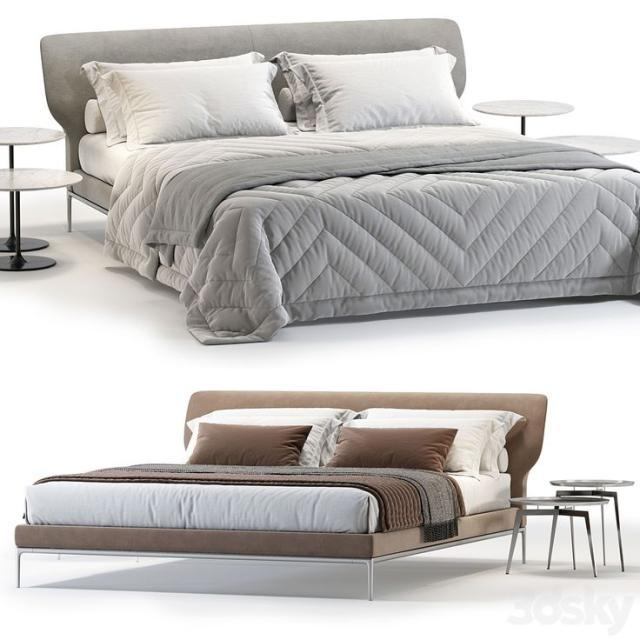obstacle: (38, 18, 639, 344), (14, 389, 548, 601), (504, 494, 606, 578), (0, 168, 82, 270), (548, 478, 634, 572), (472, 98, 574, 136)
